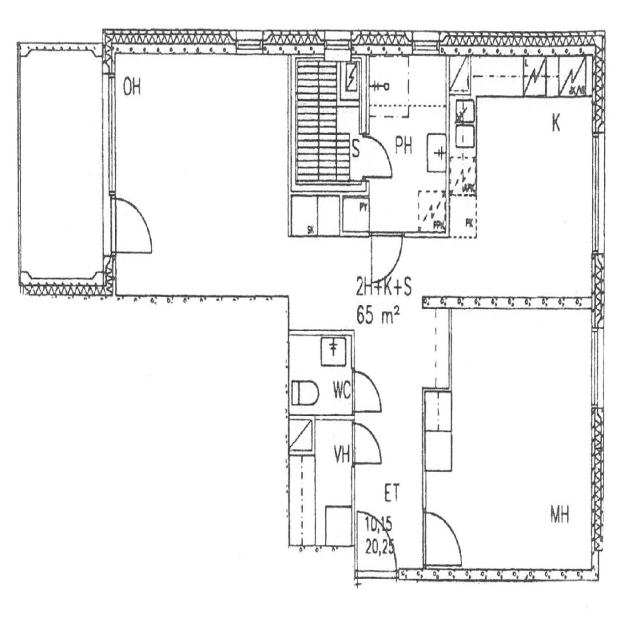door: (111, 192, 156, 256), (423, 504, 466, 570), (369, 230, 404, 286), (350, 367, 385, 416), (350, 420, 384, 468), (363, 133, 395, 180)
window: (586, 128, 610, 257), (100, 72, 122, 200), (585, 322, 608, 417), (233, 32, 267, 58), (411, 32, 441, 58), (397, 564, 422, 585)
zone: (354, 308, 598, 574), (110, 41, 290, 296), (448, 53, 599, 304), (18, 49, 107, 290), (366, 51, 454, 232), (290, 51, 365, 236), (289, 416, 354, 554), (287, 333, 353, 416), (323, 506, 353, 551)
